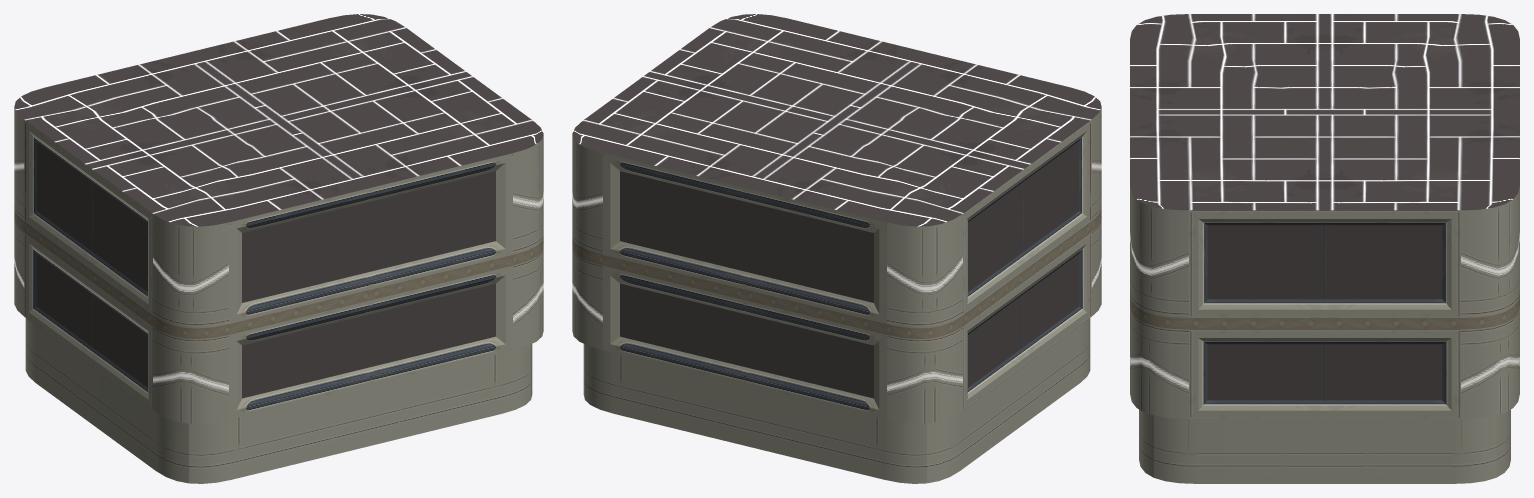
File: KF_SM_XBuilding010.fbx
3 views of the same model, side by side, from view 1: azimuth 30°, elevation 25°; view 2: azimuth 150°, elevation 25°; view 3: azimuth 270°, elevation 25° (orthographic). The views are drawn at different scales.
Parts seen in each view (by area): view 1: KF_SM_XBuilding010; view 2: KF_SM_XBuilding010; view 3: KF_SM_XBuilding010.
Part boxes in pixels (x1,y1,x2,y2): KF_SM_XBuilding010: (14,14,543,483); KF_SM_XBuilding010: (572,14,1101,483); KF_SM_XBuilding010: (1130,14,1519,483).
Bounding box in the file's own units: 5172 × 3403 × 4337.
